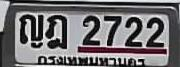2: (80, 14, 99, 44), (145, 16, 163, 47), (124, 15, 141, 46)
7: (103, 15, 121, 45)
A13: (18, 12, 42, 44)
A14: (45, 14, 66, 48)
BKK: (35, 55, 147, 67)
